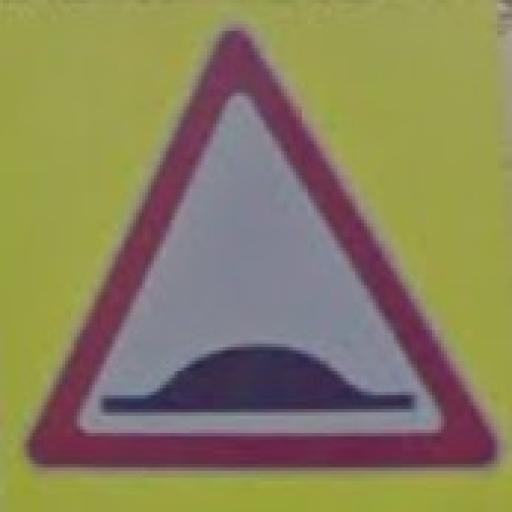traffic_sign: (25, 25, 504, 475)
